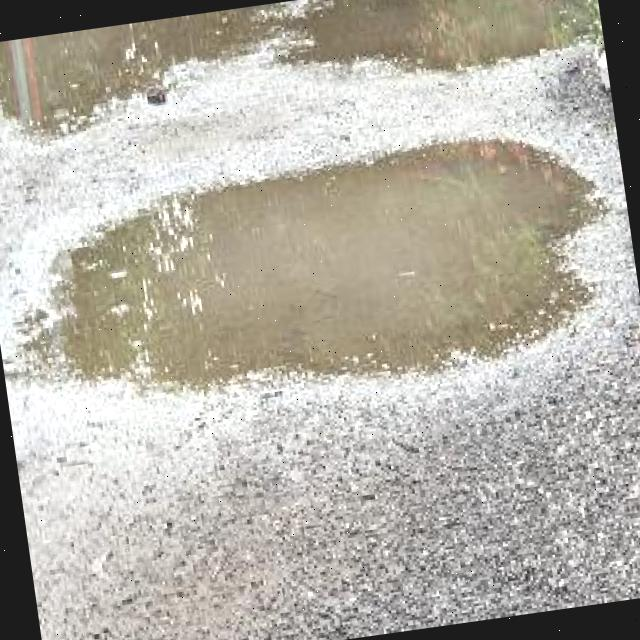stagnation: (0, 109, 621, 412)
